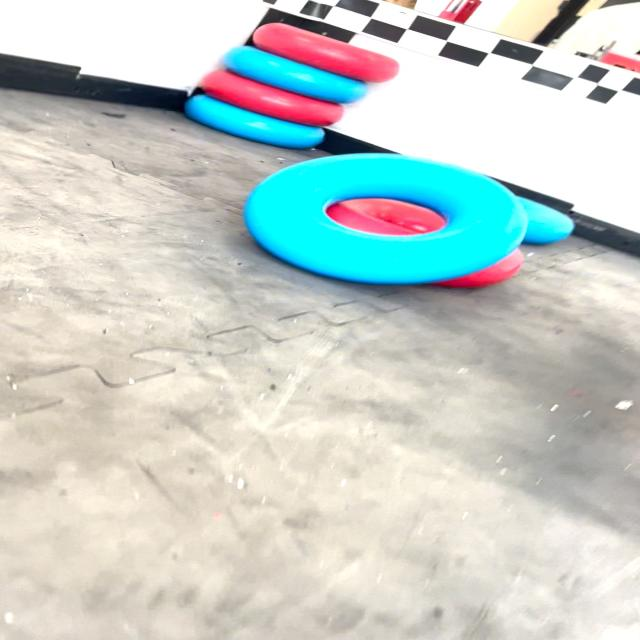Blue-Ring: (242, 152, 524, 282), (222, 46, 367, 103), (184, 95, 324, 149), (518, 198, 573, 244)
Red-Ring: (253, 22, 400, 82), (200, 70, 344, 126), (338, 199, 444, 234)
